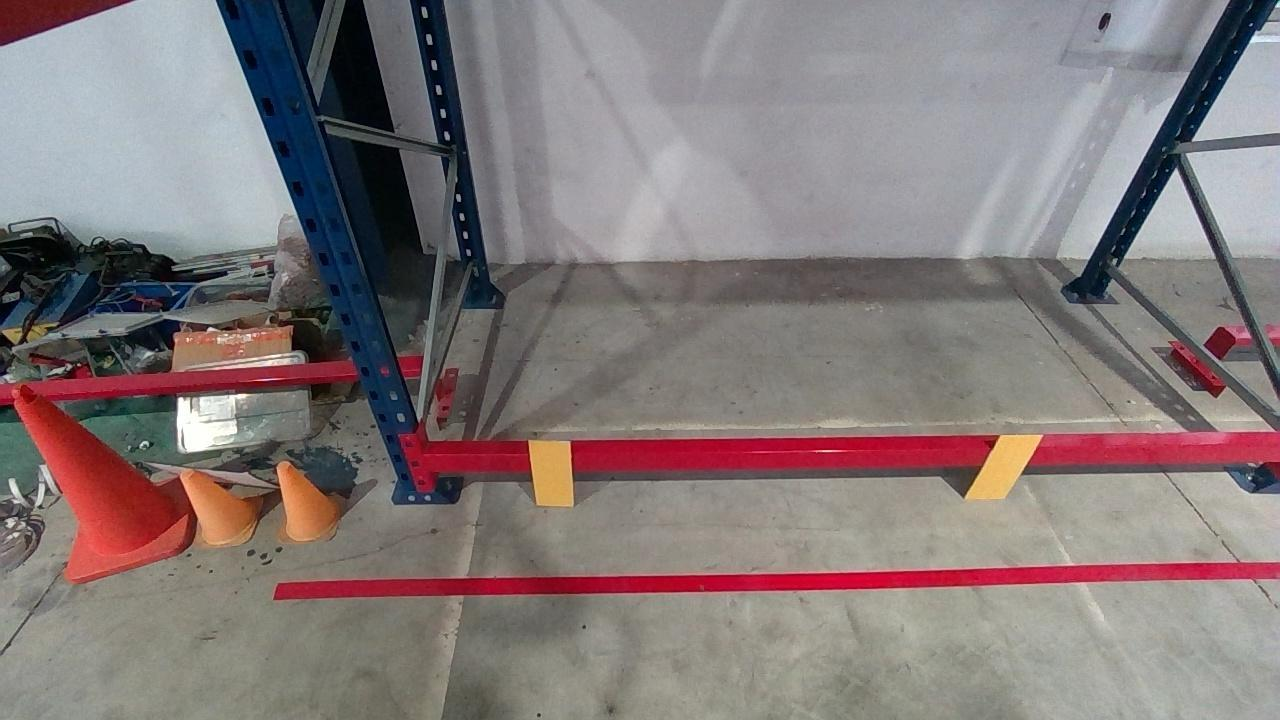h_rack: (424, 442, 1275, 473)
orange_strip: (963, 436, 1046, 499), (527, 439, 575, 505)
red_line: (276, 561, 1277, 596)
